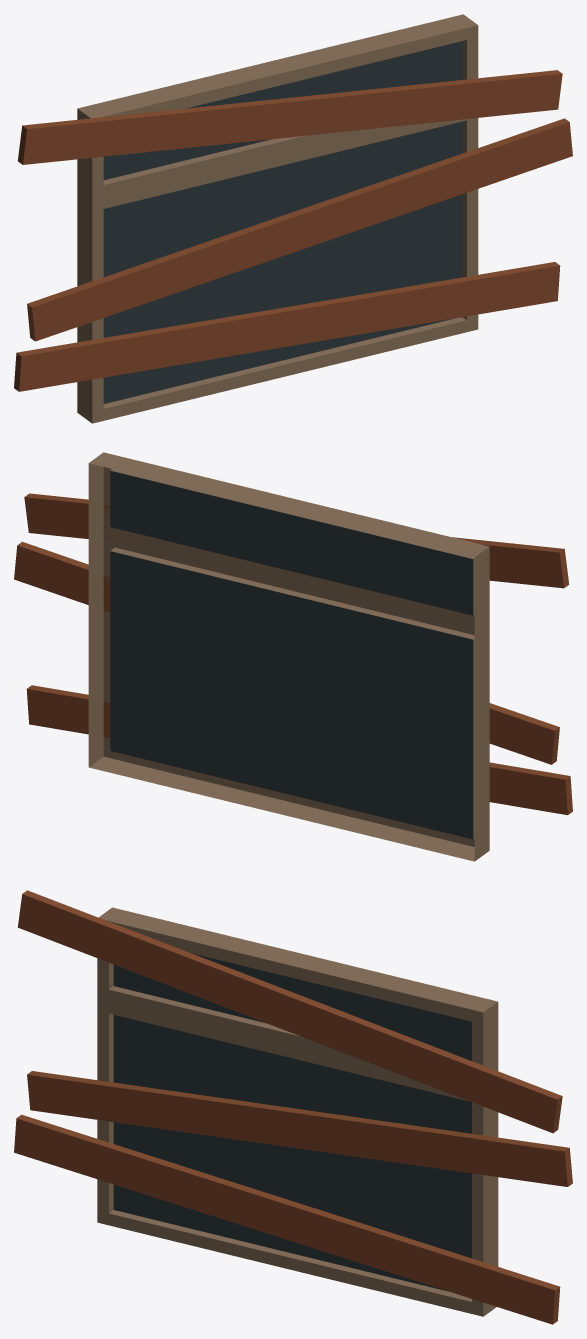
Rendered from LP_PostApoc_Window1.fbx.
The picture shows the model from 3 angles, top to bottom: view 1: azimuth 30°, elevation 25°; view 2: azimuth 150°, elevation 25°; view 3: azimuth 330°, elevation 25°; orthographic projection.
Parts seen in each view (by area): view 1: Window1; view 2: Window1; view 3: Window1.
Part boxes in pixels (<box>): Window1: <box>14,14,572,423</box>; Window1: <box>14,452,572,861</box>; Window1: <box>14,890,572,1324</box>.
Size of the model in its own units: 270 by 147 by 16.91.
